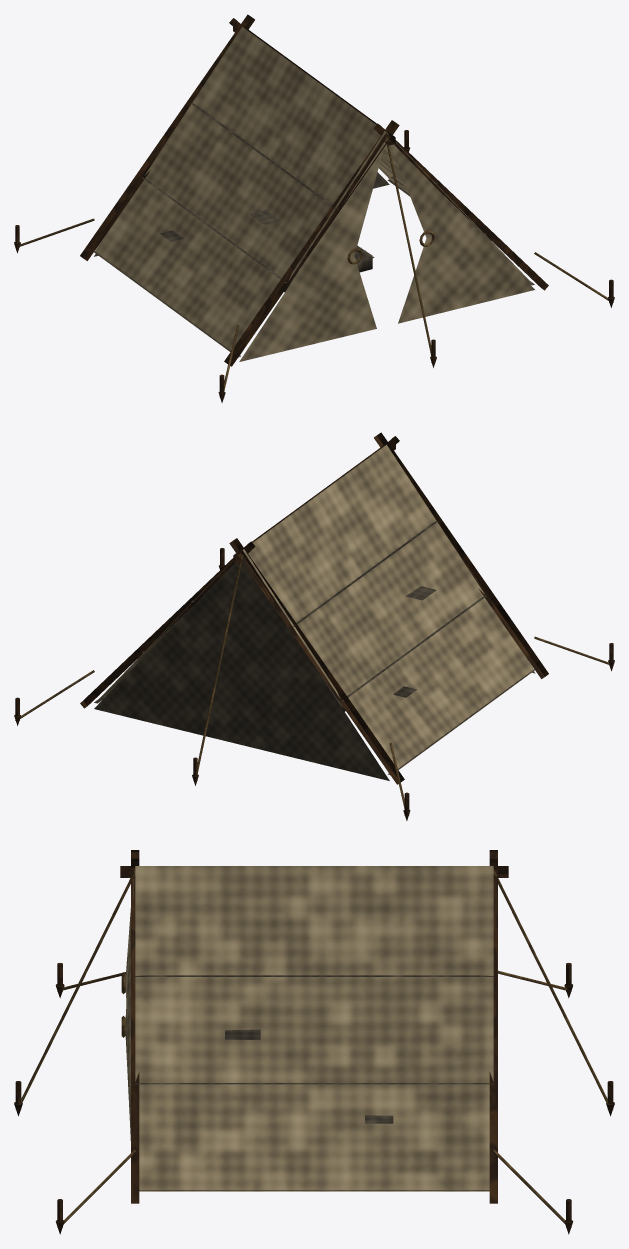
The model's file is medieval_field_tent_3d_runtime.glb.
The picture shows the model from 3 angles, top to bottom: view 1: azimuth 30°, elevation 25°; view 2: azimuth 150°, elevation 25°; view 3: azimuth 270°, elevation 25°; orthographic projection. The views are drawn at different scales.
Visible parts, largest first — view 1: FIELD_TENT_CANVAS_BATCH, FIELD_TENT_WOOD_DARK_BATCH, FIELD_TENT_CANVAS_DARK_BATCH, FIELD_TENT_ROPE_BATCH; view 2: FIELD_TENT_CANVAS_BATCH, FIELD_TENT_CANVAS_DARK_BATCH, FIELD_TENT_WOOD_DARK_BATCH, FIELD_TENT_ROPE_BATCH; view 3: FIELD_TENT_CANVAS_BATCH, FIELD_TENT_WOOD_DARK_BATCH, FIELD_TENT_ROPE_BATCH, FIELD_TENT_CANVAS_DARK_BATCH.
Boxes of the visible parts, <box> form: FIELD_TENT_CANVAS_BATCH: <box>94,26,534,361</box>; FIELD_TENT_WOOD_DARK_BATCH: <box>14,14,614,402</box>; FIELD_TENT_CANVAS_DARK_BATCH: <box>94,103,534,356</box>; FIELD_TENT_ROPE_BATCH: <box>19,137,608,390</box>; FIELD_TENT_CANVAS_BATCH: <box>96,444,535,775</box>; FIELD_TENT_CANVAS_DARK_BATCH: <box>94,521,534,780</box>; FIELD_TENT_WOOD_DARK_BATCH: <box>14,432,614,820</box>; FIELD_TENT_ROPE_BATCH: <box>20,555,609,808</box>; FIELD_TENT_CANVAS_BATCH: <box>125,866,493,1191</box>; FIELD_TENT_WOOD_DARK_BATCH: <box>14,850,614,1234</box>; FIELD_TENT_ROPE_BATCH: <box>20,871,608,1223</box>; FIELD_TENT_CANVAS_DARK_BATCH: <box>135,975,493,1190</box>.
Size of the model in its own units: 6.8 by 3.47 by 7.21.
4 materials, 4 textured.
